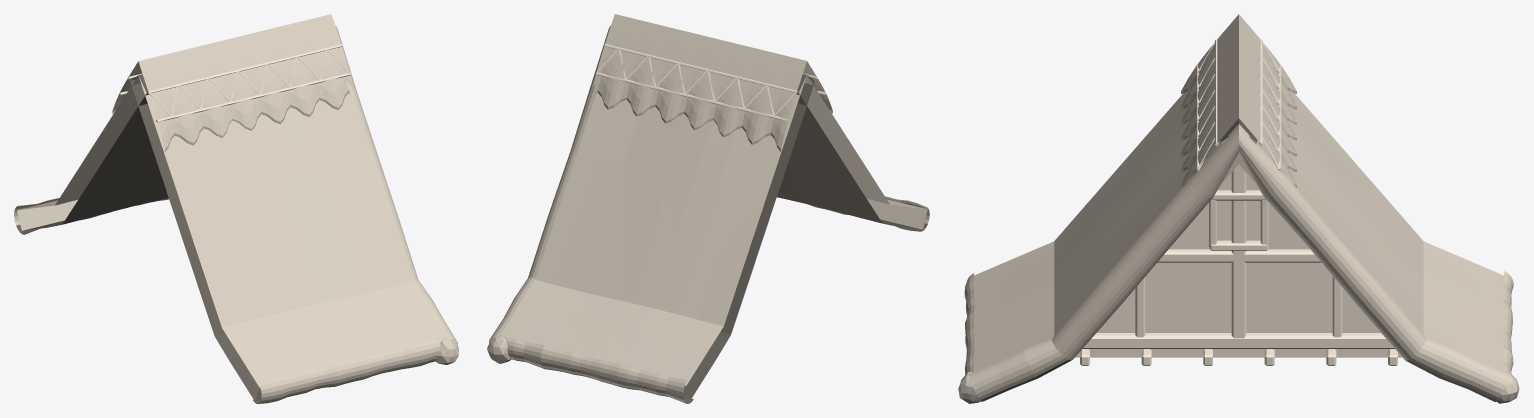
File: SM_VK_RoofThatch_Gable.fbx
The picture shows the model from 3 angles, left to right: view 1: azimuth 30°, elevation 25°; view 2: azimuth 150°, elevation 25°; view 3: azimuth 270°, elevation 25°; orthographic projection. The views are drawn at different scales.
Parts seen in each view (by area): view 1: SM_VK_RoofThatch_Gable.001; view 2: SM_VK_RoofThatch_Gable.001; view 3: SM_VK_RoofThatch_Gable.001.
Part boxes in pixels (box(x1,y1,x2,y2)): SM_VK_RoofThatch_Gable.001: box(14, 14, 458, 403); SM_VK_RoofThatch_Gable.001: box(487, 14, 929, 403); SM_VK_RoofThatch_Gable.001: box(958, 14, 1519, 403).
Bounding box in the file's own units: 4.18 × 5.16 × 9.11.
